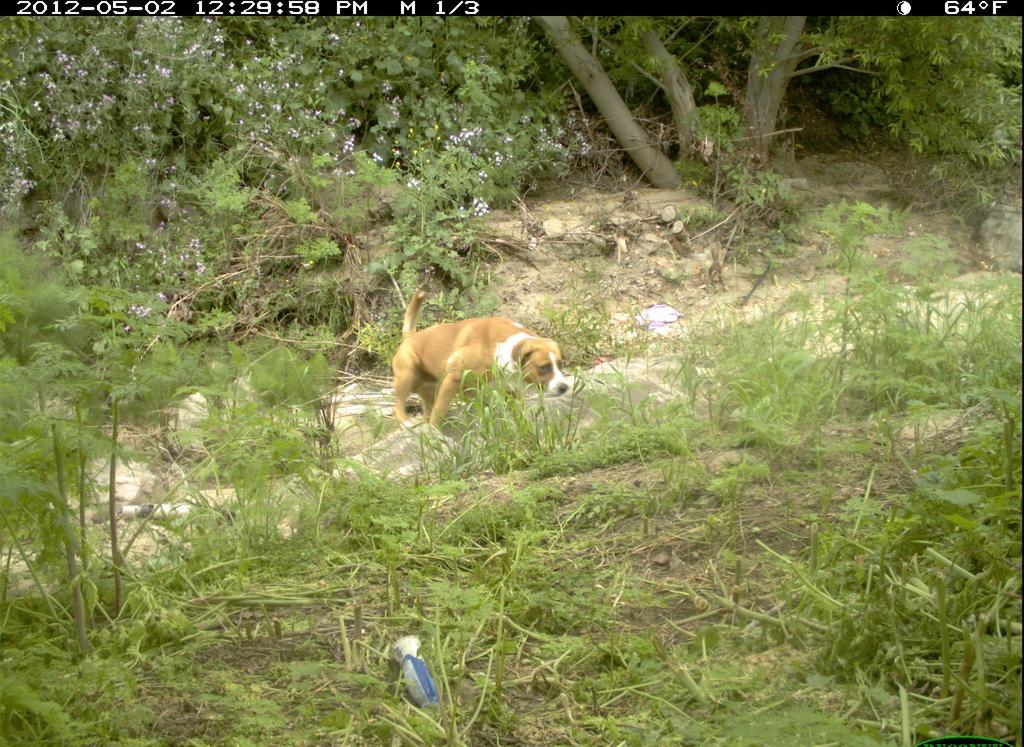dog: (381, 274, 573, 461)
